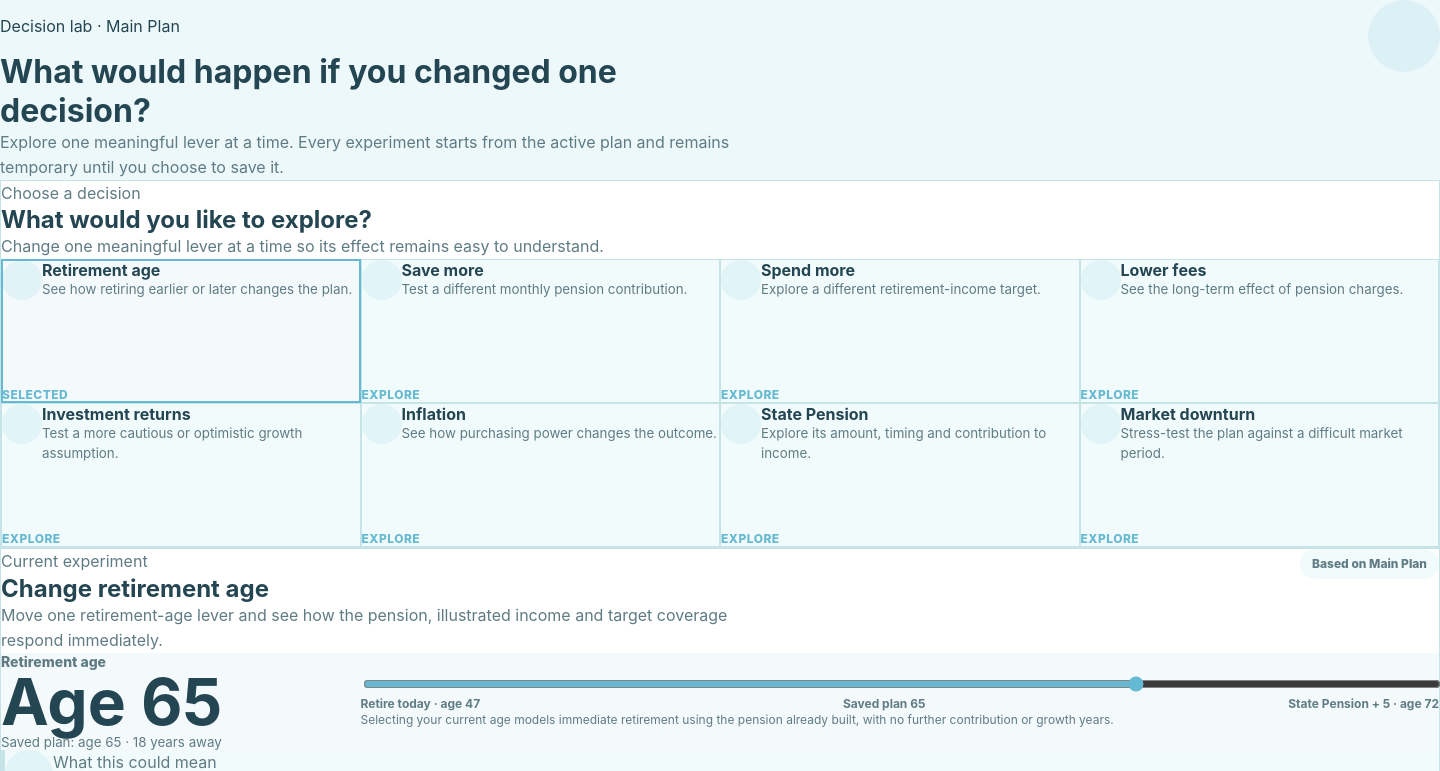
Test: WhatIfPage › centres employee and employer sliders on the saved plan
Click the button "Save more" at [382, 280], box [360,259,720,403]
(page scrolled)
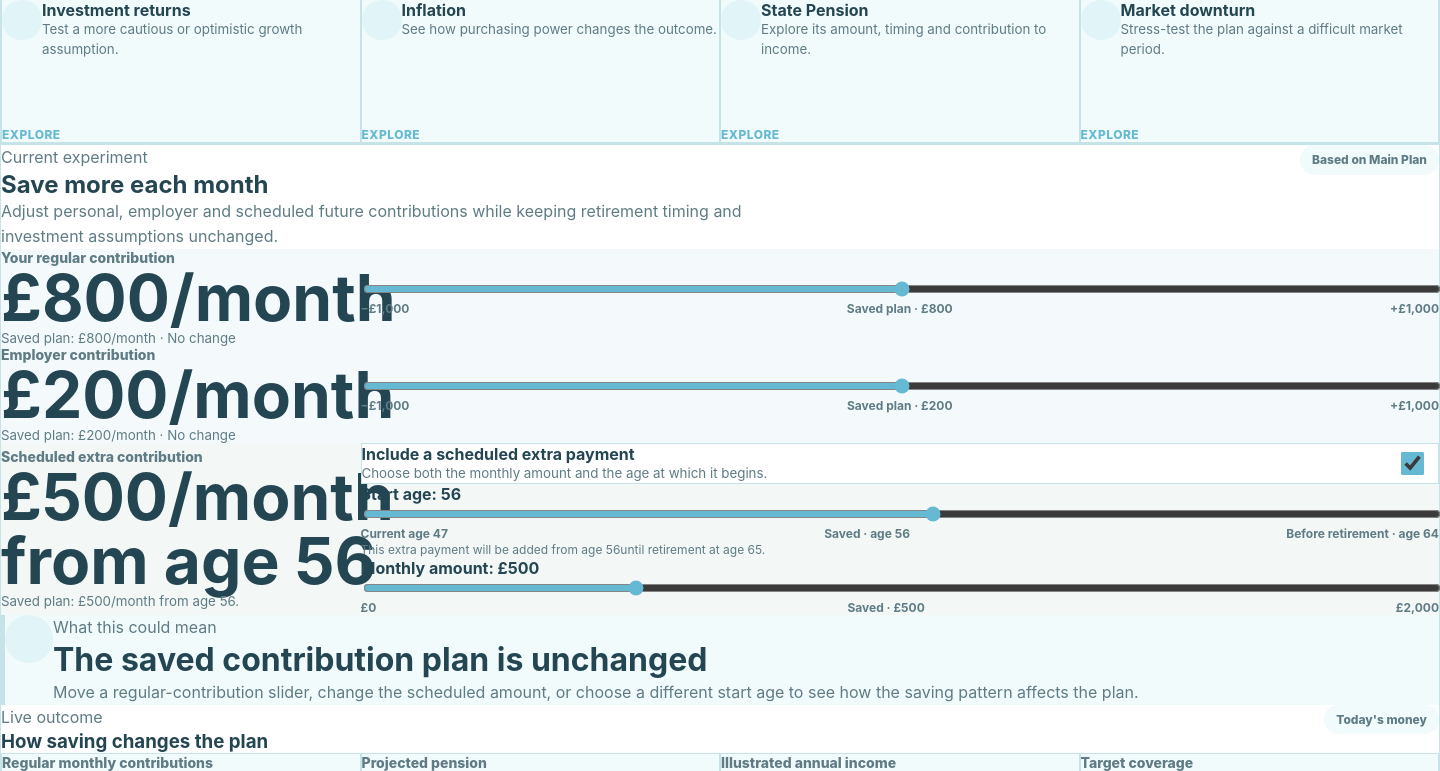
Now the slider named "Experimental monthly employee contribution change" holds "0", box [362,281,1439,297]
Now the slider named "Experimental monthly employer contribution change" holds "0", box [362,378,1439,394]
Now the text "Saved plan · £800" is shown, box [847,301,953,316]
